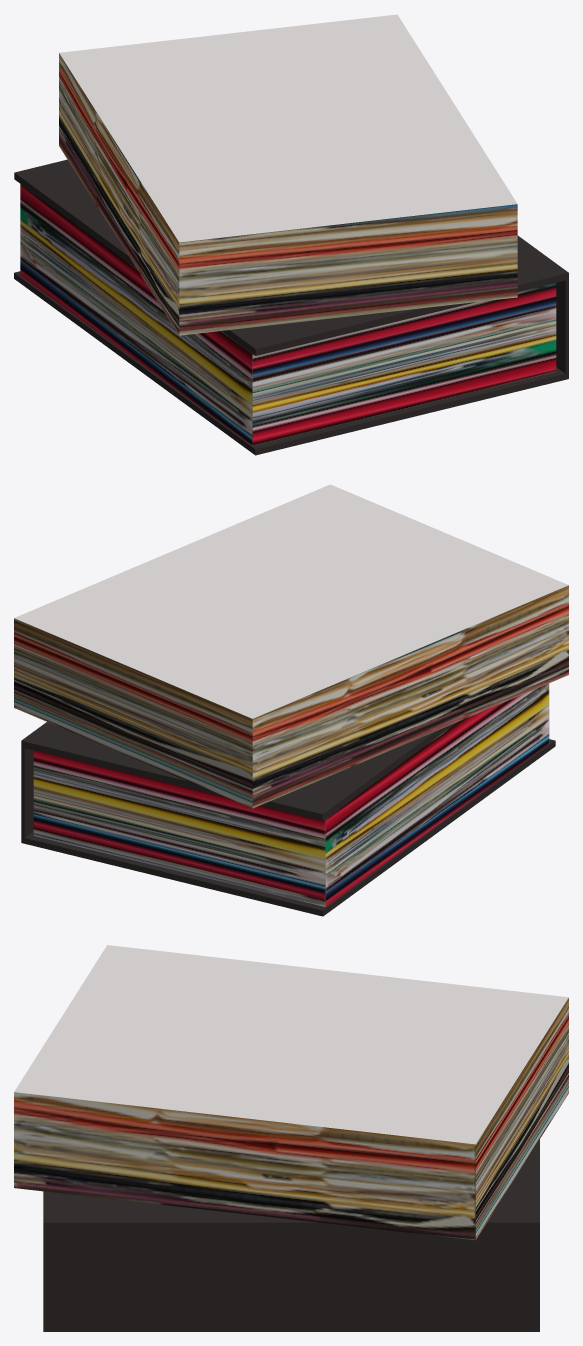
Rendered from Files 4.FBX.
3 views of the same model, one above another, from view 1: azimuth 30°, elevation 25°; view 2: azimuth 150°, elevation 25°; view 3: azimuth 270°, elevation 25° (orthographic). The views are drawn at different scales.
Visible parts, largest first — view 1: Files 4; view 2: Files 4; view 3: Files 4.
Part boxes in pixels (<box>): Files 4: <box>14,14,568,455</box>; Files 4: <box>14,484,568,916</box>; Files 4: <box>14,945,568,1331</box>.
Bounding box in the file's own units: 22.94 × 26.99 × 11.1.
Materials: 1 (1 with a texture image).
